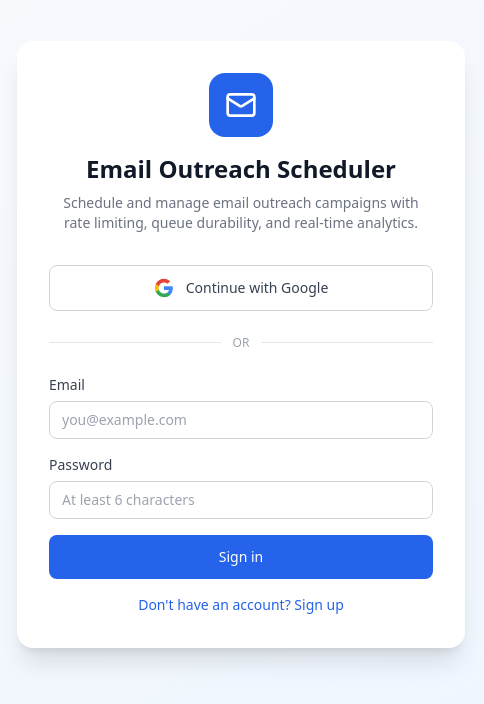
Test: LoginPage › shows validation error when password is too short
Type "test@example.com" into the field with placeholder "you@example.com" at (241, 420), box [49,400,433,438]
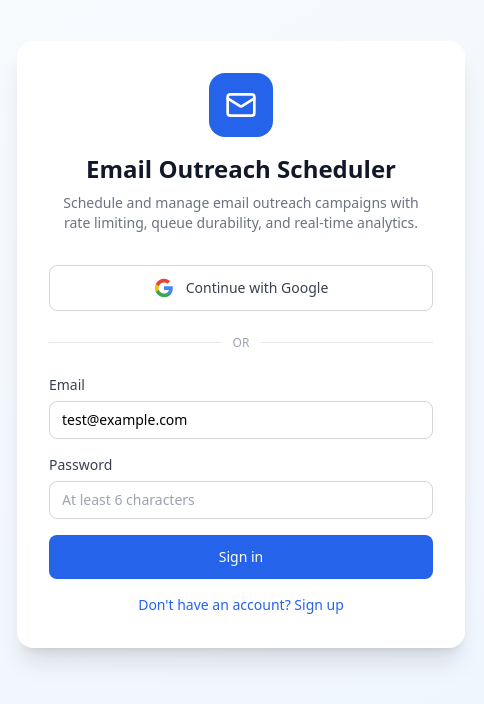
Type "123" into the password field with placeholder "At least 6 characters" at (241, 500), box [49,480,433,518]
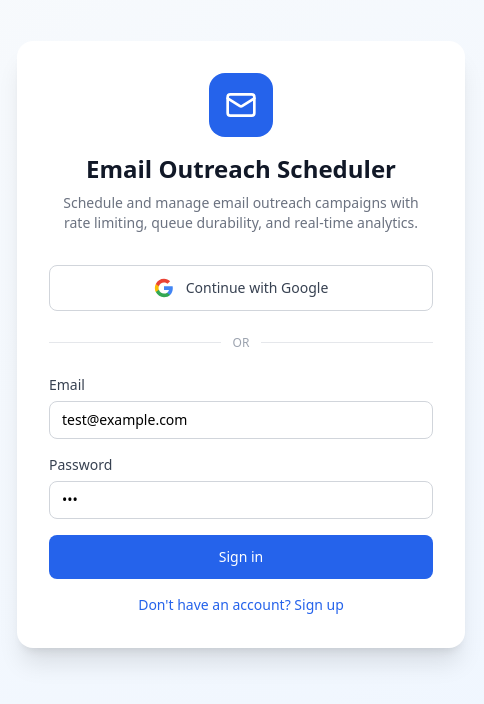
Click the button "Sign in" at (241, 556), box [49,534,433,578]
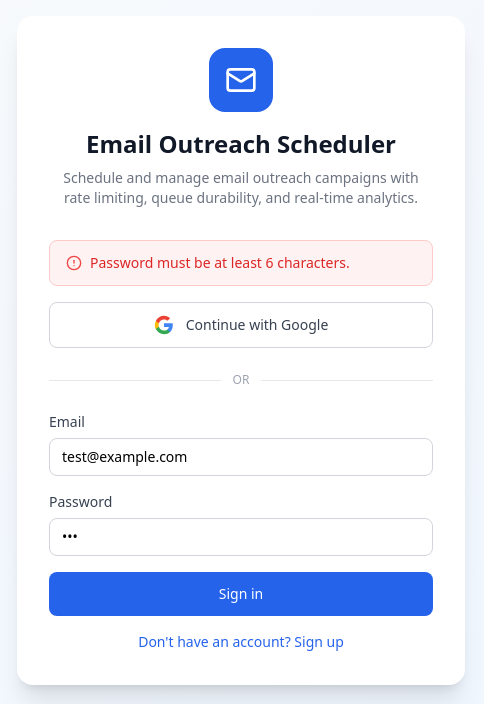
Now the text "Password must be at least 6 characters." is shown, box [90,253,350,273]
